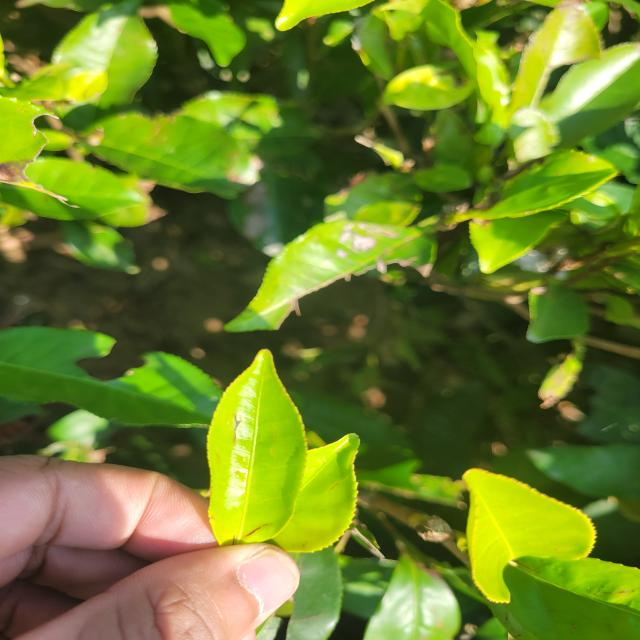Catagory A(1-2 days): (158, 340, 318, 553)
